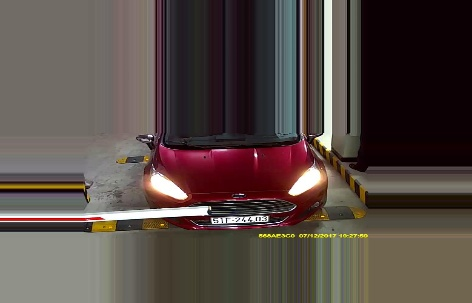plate: (210, 213, 267, 222)
